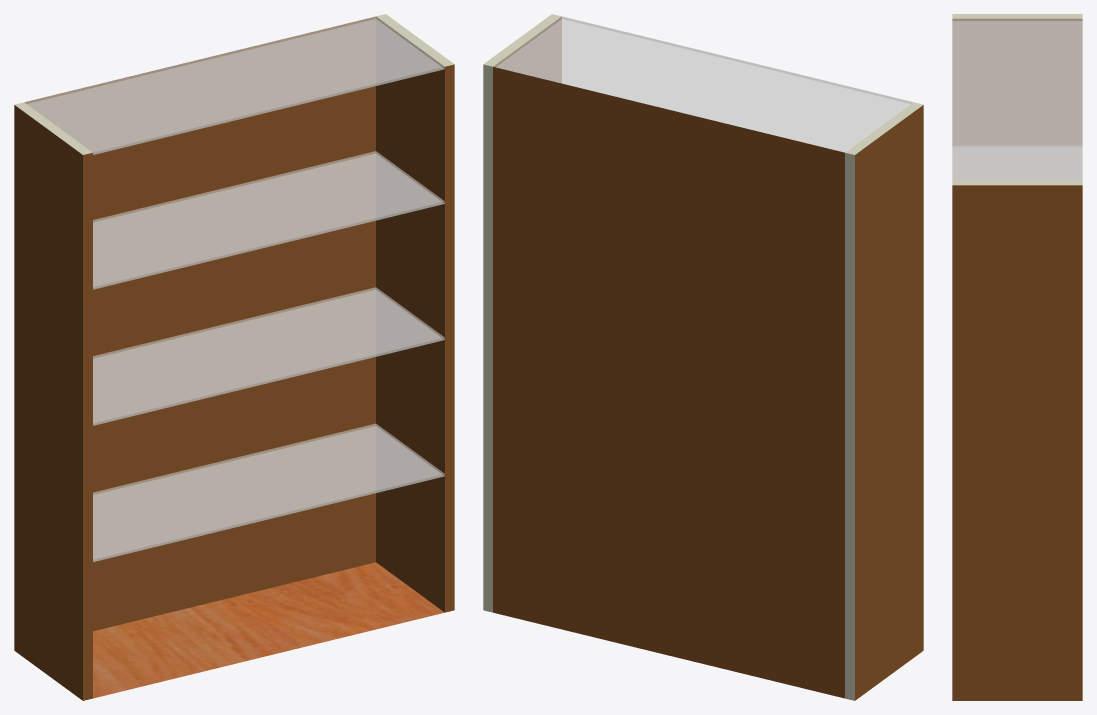
Rendered from shelfs.obj.
3 renders of one model, left to right at view 1: azimuth 30°, elevation 25°; view 2: azimuth 150°, elevation 25°; view 3: azimuth 270°, elevation 25°, orthographic. The views are drawn at different scales.
Parts seen in each view (by area): view 1: Mesh1 Model; view 2: Mesh1 Model; view 3: Mesh1 Model.
Boxes of the visible parts, <box> form: Mesh1 Model: <box>14,14,454,700</box>; Mesh1 Model: <box>483,14,923,700</box>; Mesh1 Model: <box>952,14,1082,700</box>.
Size of the model in its own units: 49.09 by 68.9 by 15.75.
